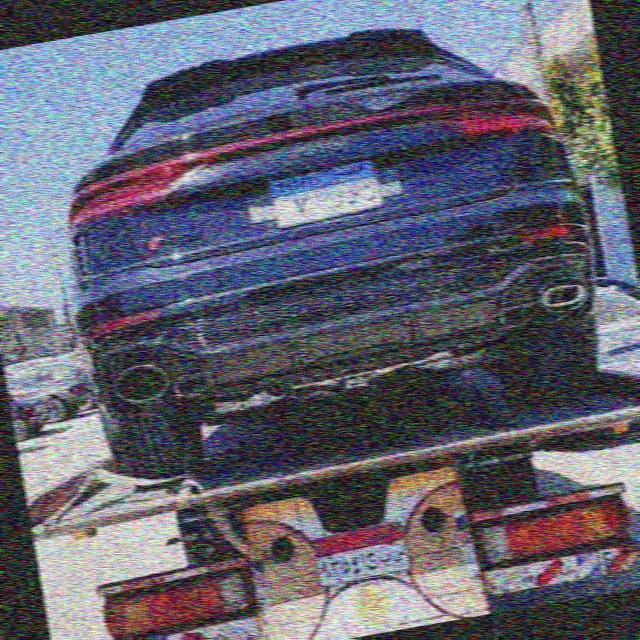License Plate: (267, 157, 387, 235), (310, 521, 413, 589)
